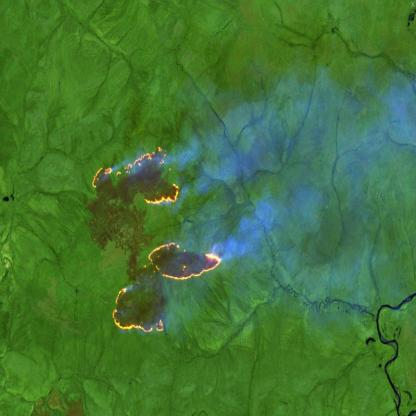fire: (87, 140, 229, 339)
